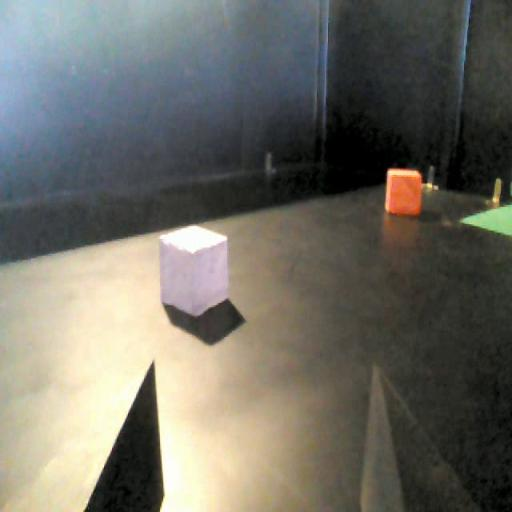cube: (154, 219, 234, 324), (385, 167, 424, 221)
